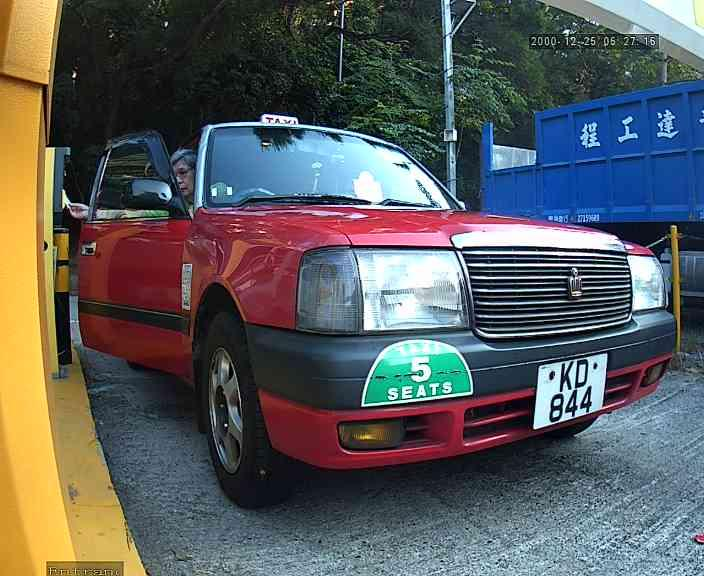Car: (104, 13, 635, 507)
License Plate: (525, 355, 610, 427)
